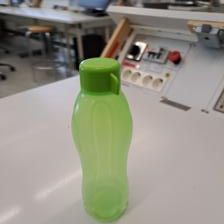bottle: (71, 54, 140, 216)
